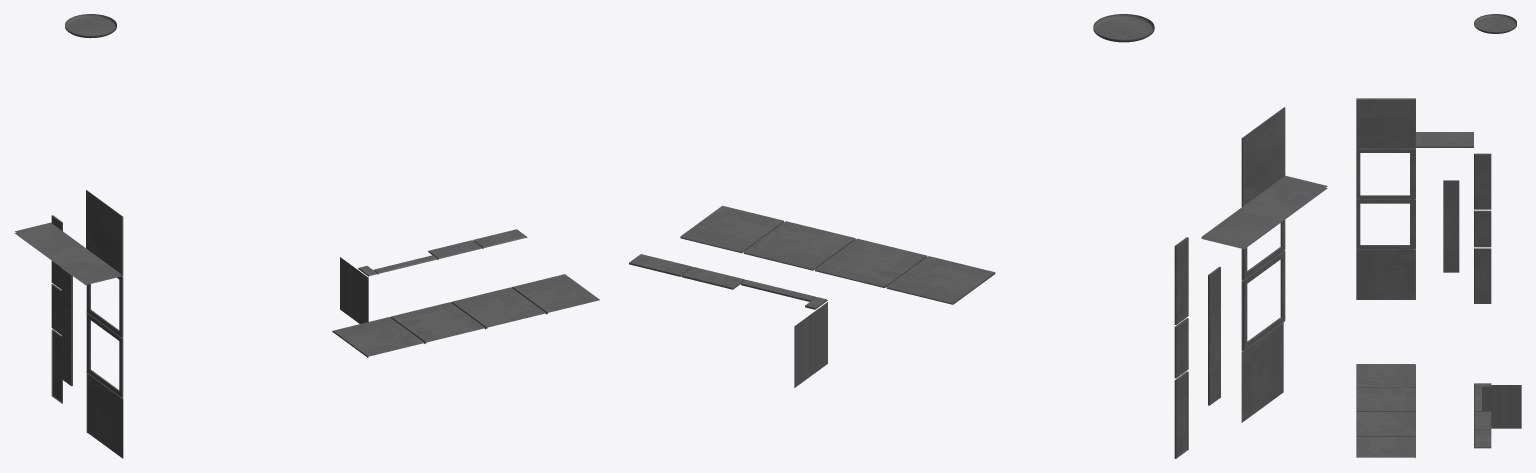
File: nt_2020_house_02_cabinet_LOD0.obj
3 renders of one model, left to right at view 1: azimuth 30°, elevation 25°; view 2: azimuth 150°, elevation 25°; view 3: azimuth 270°, elevation 25°, orthographic. The views are drawn at different scales.
Parts seen in each view (by area): view 1: nt_2020_formica_cream_cabinet; view 2: nt_2020_formica_cream_cabinet; view 3: nt_2020_formica_cream_cabinet.
Part boxes in pixels (<box>): nt_2020_formica_cream_cabinet: <box>14,14,599,458</box>; nt_2020_formica_cream_cabinet: <box>629,14,1327,458</box>; nt_2020_formica_cream_cabinet: <box>1356,14,1521,457</box>.
Size of the model in its own units: 935 by 626 by 314.
Materials: 1 (1 with a texture image).
